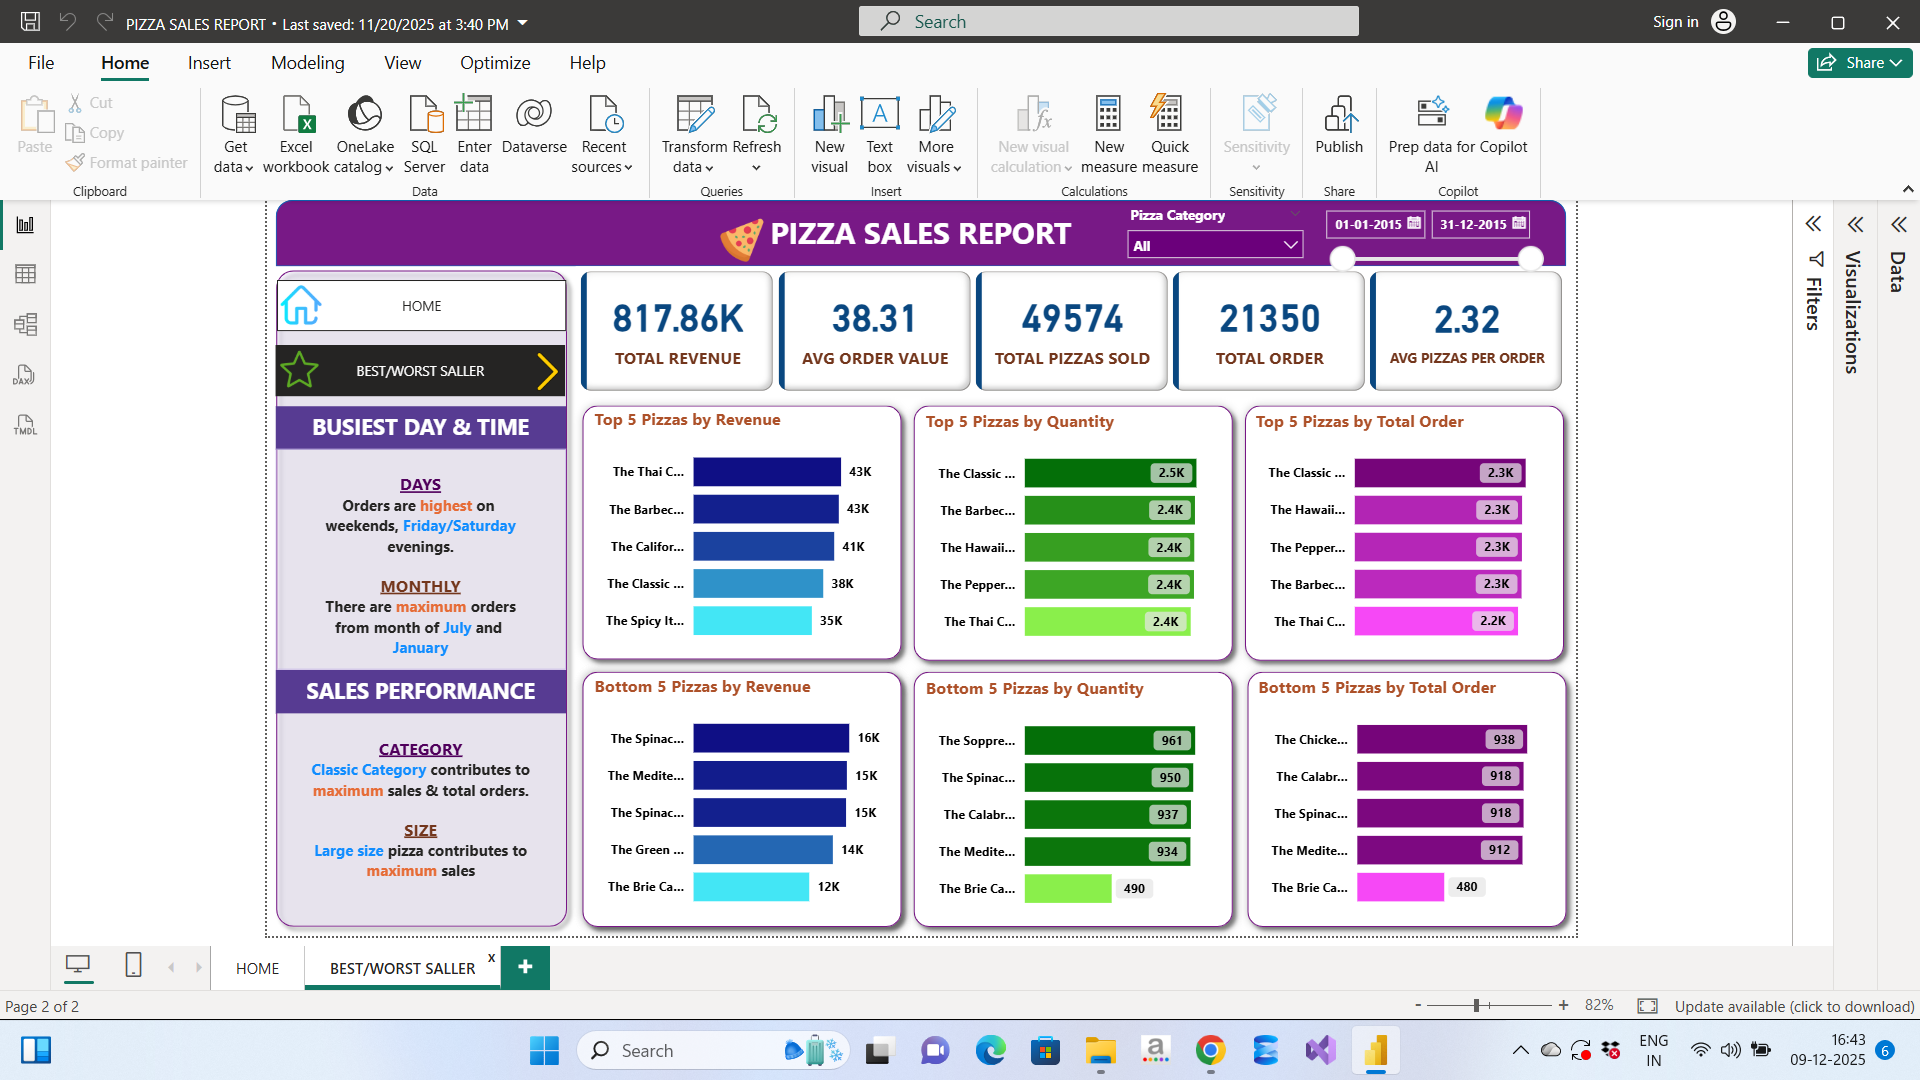

This screenshot's page, from the dashboard's own definition file:
{"tool":"powerbi","page":{"name":"BEST/WORST SALLER","canvas":[1280,720],"ordinal":1},"visuals":[{"type":"shape","box":[8.8,0,1262.5,65],"z":0},{"type":"cardVisual","fields":{"Data":["pizza_sales.TOTAL REVENUE","pizza_sales.AVG ORDER VALUE","pizza_sales.TOTAL PIZZAS SOLD","pizza_sales.TOTAL ORDER","pizza_sales.AVG PIZZAS PER ORDER"]},"box":[302,64.8,972.2,127.2],"z":1000},{"type":"textbox","title":"PIZZA SALES REPORT","box":[479.4,11,320.4,36.7],"z":2000},{"type":"image","box":[437.8,11,53.8,57.5],"z":3000},{"type":"shape","box":[299.6,192,330.2,266.6],"z":4000},{"type":"shape","box":[0,60,302.5,660],"z":5000},{"type":"textbox","box":[8.8,201.2,283.8,42.5],"z":6000},{"type":"textbox","box":[8.8,243.8,283.8,216.2],"z":7000},{"type":"textbox","box":[8.8,460,283.8,42.5],"z":8000},{"type":"textbox","box":[8.8,502.5,283.8,205],"z":9000},{"type":"slicer","fields":{"Values":["pizza_sales.pizza_category"]},"box":[831.2,0,192.5,70],"z":10000},{"type":"slicer","fields":{"Values":["pizza_sales.order_date"]},"box":[1023.5,0,233.6,79.5],"z":11000},{"type":"shape","box":[623.6,192,330.2,267.8],"z":12000},{"type":"shape","box":[947.7,192,330.2,267.8],"z":13000},{"type":"shape","box":[299.6,452.4,330.2,267.8],"z":14000},{"type":"shape","box":[299.6,452.2,330.2,267.8],"z":15000},{"type":"shape","box":[623.6,452.4,330.2,267.8],"z":16000},{"type":"shape","box":[950.1,452.4,330.2,267.8],"z":17000},{"type":"barChart","title":"Top 5 Pizzas by Revenue","fields":{"Category":["pizza_sales.pizza_name"],"Y":["pizza_sales.TOTAL REVENUE"]},"box":[315.5,203,299.6,243.3],"z":18000},{"type":"barChart","title":"Bottom 5 Pizzas by Revenue","fields":{"Category":["pizza_sales.pizza_name"],"Y":["pizza_sales.TOTAL REVENUE"]},"box":[315.5,463.5,299.6,243.3],"z":19000},{"type":"barChart","title":"Top 5 Pizzas by Quantity","fields":{"Category":["pizza_sales.pizza_name"],"Y":["pizza_sales.TOTAL PIZZAS SOLD"]},"box":[639.5,204.5,299.1,242.9],"z":20000},{"type":"barChart","title":"Bottom 5 Pizzas by Quantity","fields":{"Category":["pizza_sales.pizza_name"],"Y":["pizza_sales.TOTAL PIZZAS SOLD"]},"box":[639.4,465.3,299.5,242.4],"z":21000},{"type":"barChart","title":"Top 5 Pizzas by Total Order","fields":{"Category":["pizza_sales.pizza_name"],"Y":["pizza_sales.TOTAL ORDER"]},"box":[962.7,204.8,299.5,242.4],"z":22000},{"type":"barChart","title":"Bottom 5 Pizzas by Total Order","fields":{"Category":["pizza_sales.pizza_name"],"Y":["pizza_sales.TOTAL ORDER"]},"box":[964.8,464.7,299.6,242.1],"z":23000},{"type":"pageNavigator","box":[8.6,141.8,283.7,50.1],"z":24000},{"type":"pageNavigator","box":[9.8,78.3,283.7,50.1],"z":25000},{"type":"image","box":[249.5,144.3,50.1,47.7],"z":26000},{"type":"image","box":[8.6,77,50.1,51.4],"z":27000},{"type":"image","box":[4.9,141.8,53.8,47.7],"z":28000}]}

Visuals, with their boxes on the page's 1280x720 design canvas (x1, y1, x2, y2). These are canvas units, not pixel positions in the 1920x1080 screenshot, which may show the page scaled, cropped or inside an application window:
shape: select_region(9, 0, 1271, 65)
cardVisual - pizza_sales.TOTAL REVENUE x pizza_sales.AVG ORDER VALUE: select_region(302, 65, 1274, 192)
"PIZZA SALES REPORT" textbox: select_region(479, 11, 800, 48)
image: select_region(438, 11, 492, 68)
shape: select_region(300, 192, 630, 459)
shape: select_region(0, 60, 302, 720)
textbox: select_region(9, 201, 293, 244)
textbox: select_region(9, 244, 293, 460)
textbox: select_region(9, 460, 293, 502)
textbox: select_region(9, 502, 293, 708)
slicer - pizza_sales.pizza_category: select_region(831, 0, 1024, 70)
slicer - pizza_sales.order_date: select_region(1024, 0, 1257, 80)
shape: select_region(624, 192, 954, 460)
shape: select_region(948, 192, 1278, 460)
shape: select_region(300, 452, 630, 720)
shape: select_region(300, 452, 630, 720)
shape: select_region(624, 452, 954, 720)
shape: select_region(950, 452, 1280, 720)
"Top 5 Pizzas by Revenue" barChart: select_region(316, 203, 615, 446)
"Bottom 5 Pizzas by Revenue" barChart: select_region(316, 464, 615, 707)
"Top 5 Pizzas by Quantity" barChart: select_region(640, 204, 939, 447)
"Bottom 5 Pizzas by Quantity" barChart: select_region(639, 465, 939, 708)
"Top 5 Pizzas by Total Order" barChart: select_region(963, 205, 1262, 447)
"Bottom 5 Pizzas by Total Order" barChart: select_region(965, 465, 1264, 707)
pageNavigator: select_region(9, 142, 292, 192)
pageNavigator: select_region(10, 78, 294, 128)
image: select_region(250, 144, 300, 192)
image: select_region(9, 77, 59, 128)
image: select_region(5, 142, 59, 190)
